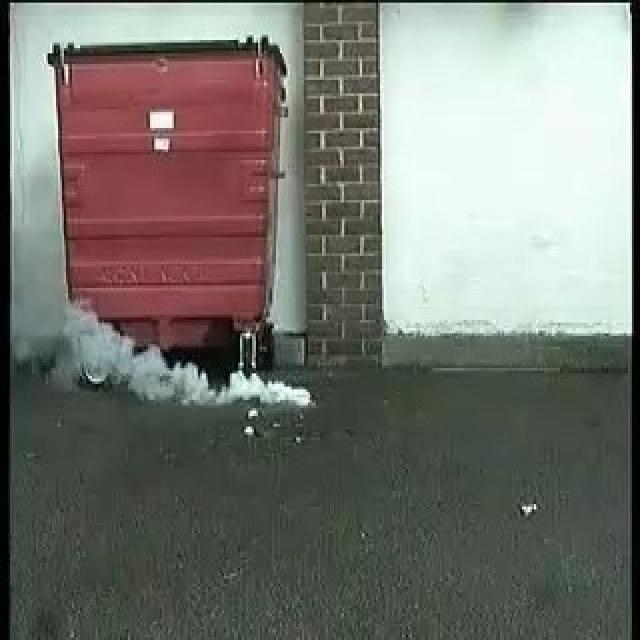smoke: (65, 314, 308, 408)
